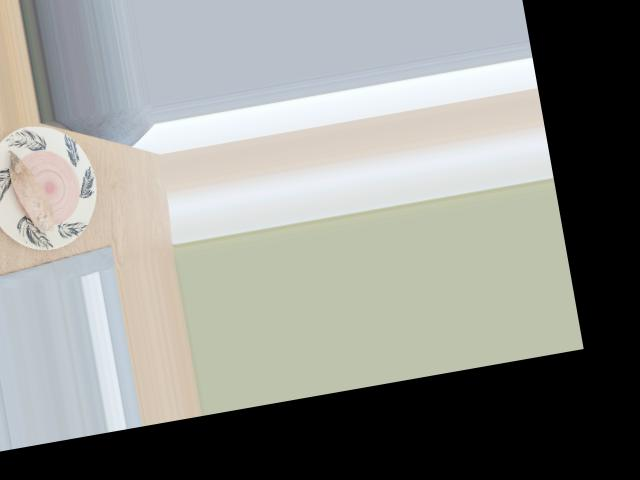sweet_potato: (0, 151, 60, 234)
